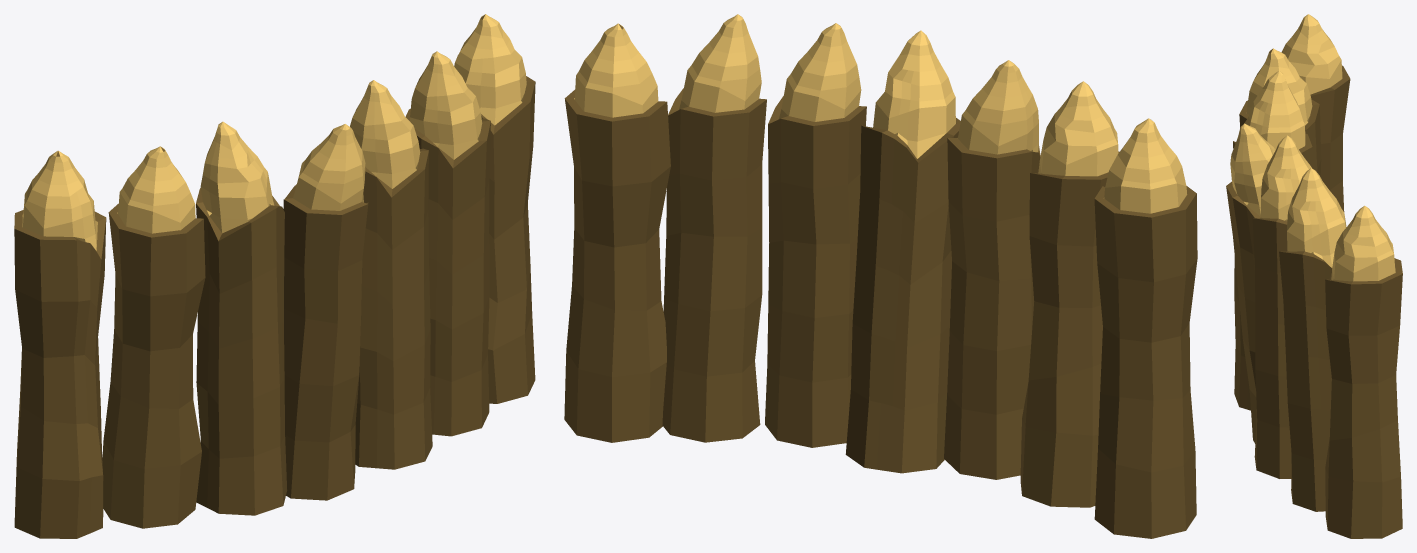
The model's file is WoodenWall01.fbx.
3 renders of one model, left to right at view 1: azimuth 30°, elevation 25°; view 2: azimuth 150°, elevation 25°; view 3: azimuth 270°, elevation 25°, orthographic. The views are drawn at different scales.
Visible parts, largest first — view 1: Cylinder.013; view 2: Cylinder.013; view 3: Cylinder.013.
Boxes of the visible parts, x1,y1,x2,y2 form: Cylinder.013: (14, 14, 535, 538); Cylinder.013: (564, 14, 1197, 538); Cylinder.013: (1226, 14, 1402, 538).
Size of the model in its own units: 1305 by 897 by 433.
